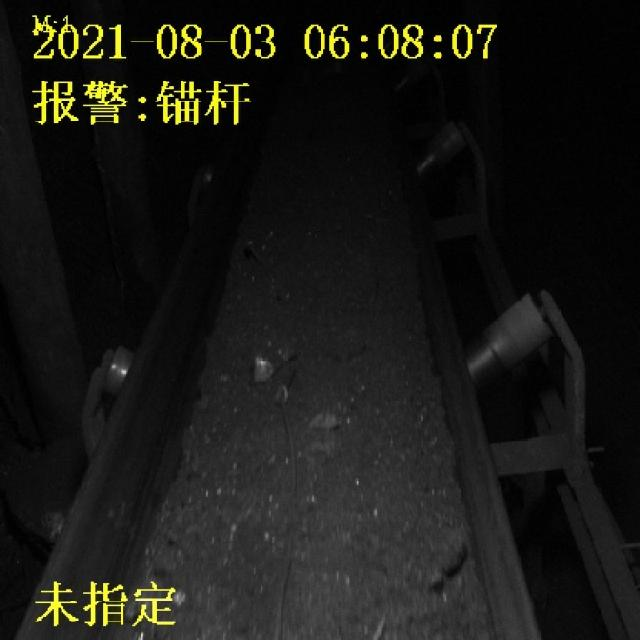bolt: (272, 381, 384, 640)
large_sized_coal: (250, 342, 288, 386)
